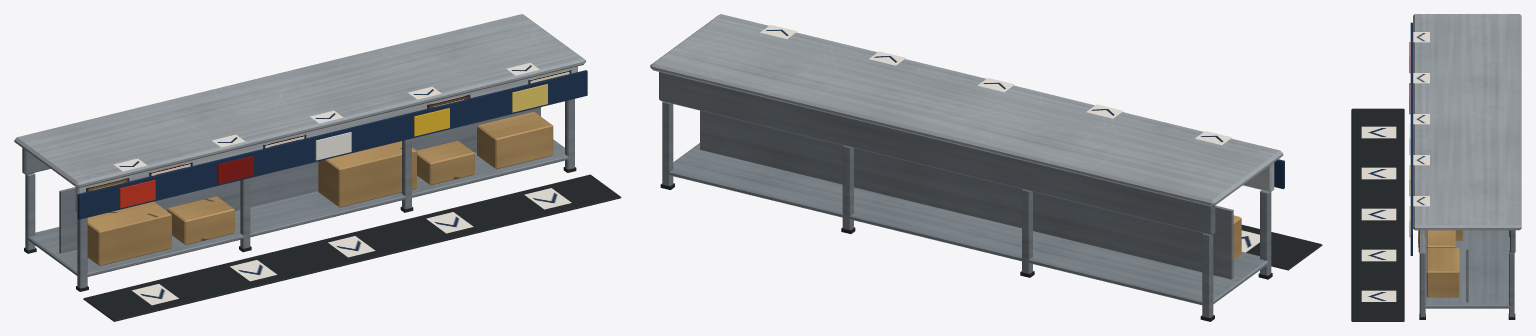
File: seasoning_station.glb
3 views of the same model, side by side, from view 1: azimuth 30°, elevation 25°; view 2: azimuth 150°, elevation 25°; view 3: azimuth 270°, elevation 25° (orthographic). The views are drawn at different scales.
Visible parts, largest first — view 1: counter, ServiceMat, ServiceFascia, Label_salt, Label_hot, Label_sweet, Label_oil, Label_potato, ServiceArrow_salt, ServiceArrow_potato, ServiceArrow_hot, ServiceArrow_oil (+1 smaller); view 2: counter, ServiceMat; view 3: counter, ServiceMat, ServiceFascia, ServiceArrow_hot, ServiceArrow_oil, ServiceArrow_salt, ServiceArrow_sweet, ServiceArrow_potato, CounterArrow_hot, CounterArrow_oil, CounterArrow_potato, CounterArrow_salt (+1 smaller).
Part boxes in pixels (x1,y1,x2,y2): counter: (14, 14, 585, 291); ServiceMat: (83, 174, 621, 321); ServiceFascia: (77, 70, 587, 219); Label_salt: (315, 132, 351, 160); Label_hot: (217, 156, 253, 184); Label_sweet: (119, 180, 155, 208); Label_oil: (414, 108, 449, 136); Label_potato: (512, 84, 547, 112); ServiceArrow_salt: (328, 236, 375, 257); ServiceArrow_potato: (524, 188, 571, 209); ServiceArrow_hot: (230, 260, 277, 281); ServiceArrow_oil: (426, 212, 473, 233); counter: (650, 14, 1283, 321); ServiceMat: (1241, 224, 1322, 270); counter: (1413, 14, 1521, 319); ServiceMat: (1351, 108, 1404, 321); ServiceFascia: (1410, 22, 1412, 255); ServiceArrow_hot: (1361, 167, 1396, 179); ServiceArrow_oil: (1361, 249, 1396, 261); ServiceArrow_salt: (1361, 208, 1396, 220); ServiceArrow_sweet: (1361, 126, 1396, 138); ServiceArrow_potato: (1361, 290, 1396, 301); CounterArrow_hot: (1413, 73, 1429, 83); CounterArrow_oil: (1413, 155, 1429, 165); CounterArrow_potato: (1413, 196, 1429, 206); CounterArrow_salt: (1413, 114, 1429, 124).
Size of the model in its own units: 5.2 by 1.1 by 1.76.
7 materials, 6 textured.
